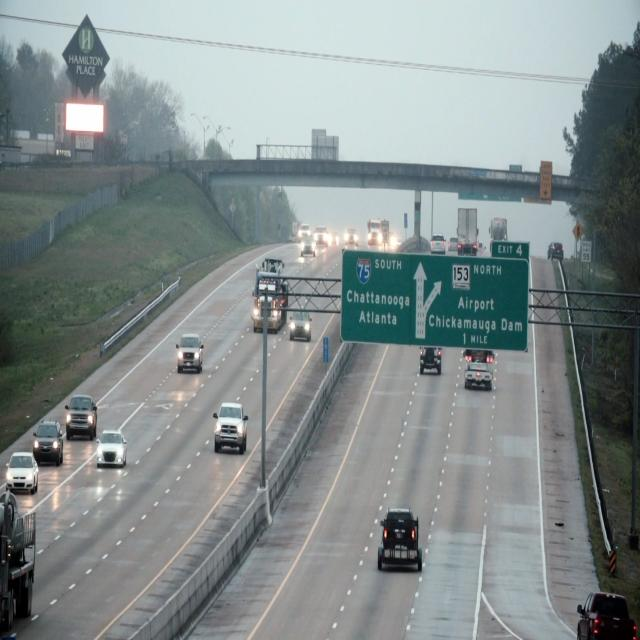Car: (379, 508, 424, 570), (250, 259, 285, 336), (213, 398, 248, 454), (65, 393, 99, 440), (6, 451, 40, 494), (177, 327, 205, 373), (35, 423, 64, 466), (98, 430, 127, 469), (465, 350, 496, 386), (290, 308, 312, 344)
